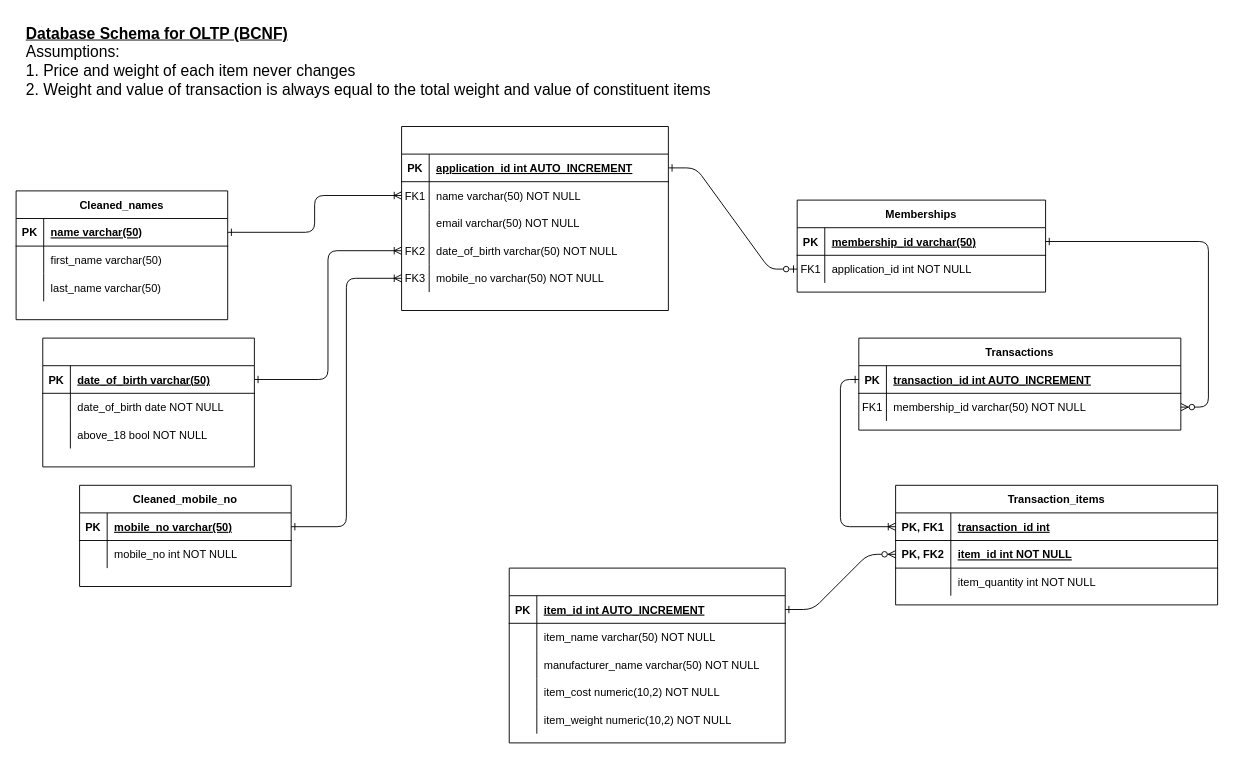
Some shapes in this 1234 by 759 pixel diagram are drawn without their labels. The box of each missing label's shape, as (x1, y1, x2, y2) in pixels:
Applications: (401, 126, 668, 310)
Cleaned_dob: (42, 337, 254, 467)
Items: (508, 567, 785, 743)
